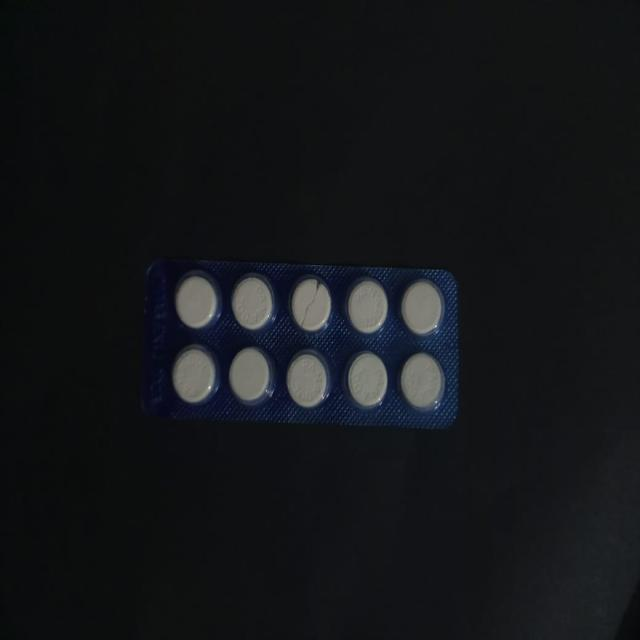defect: (288, 271, 334, 336)
